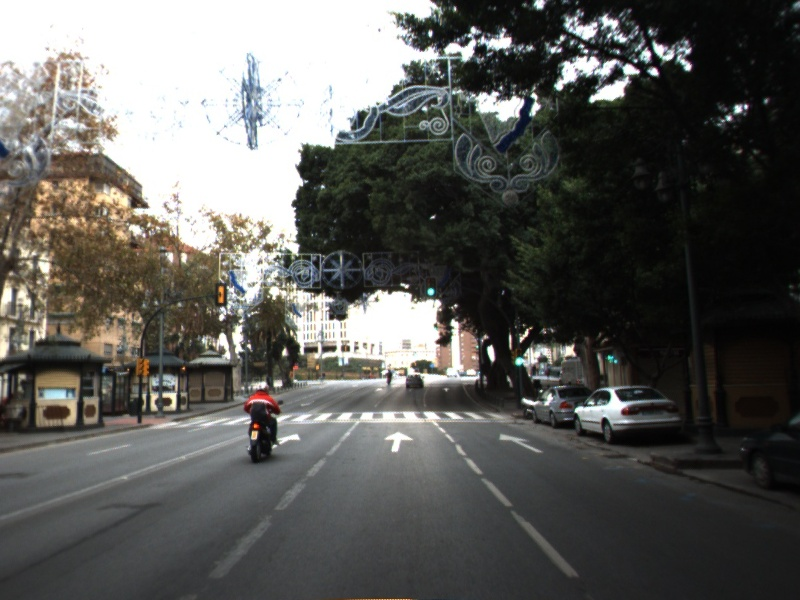STRAIGHT: (497, 431, 546, 455), (382, 429, 416, 454), (271, 431, 303, 450)
